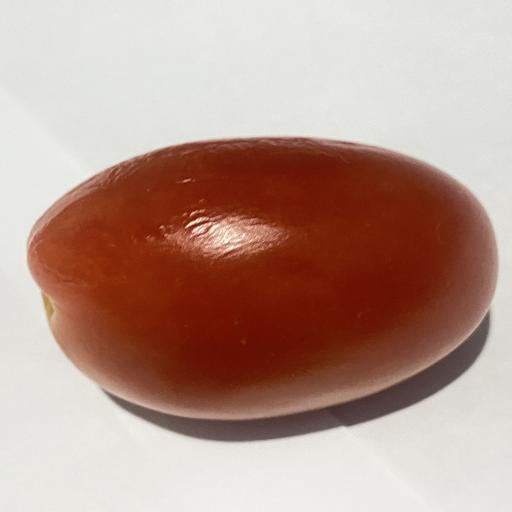spoiled: (28, 138, 497, 419)
